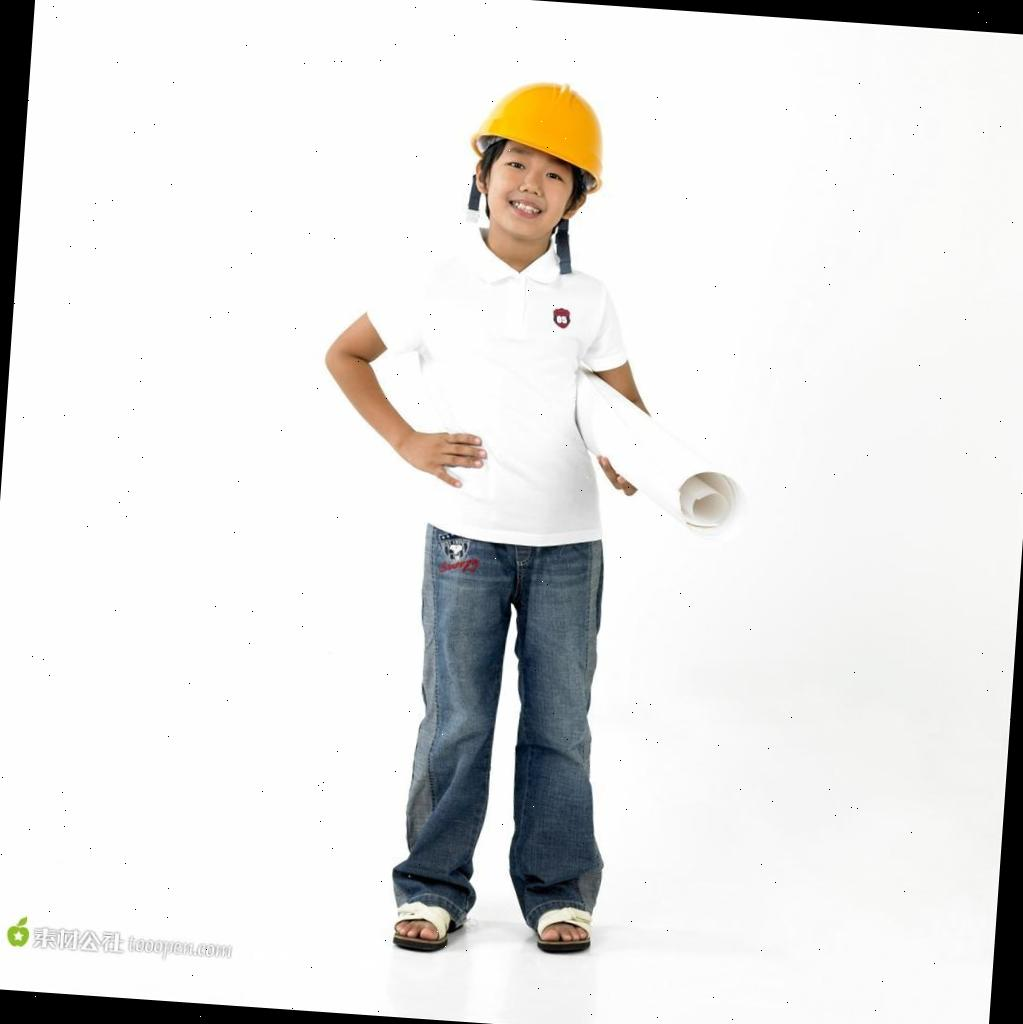helmet: (464, 76, 620, 194)
no_wear: (404, 255, 624, 548)
